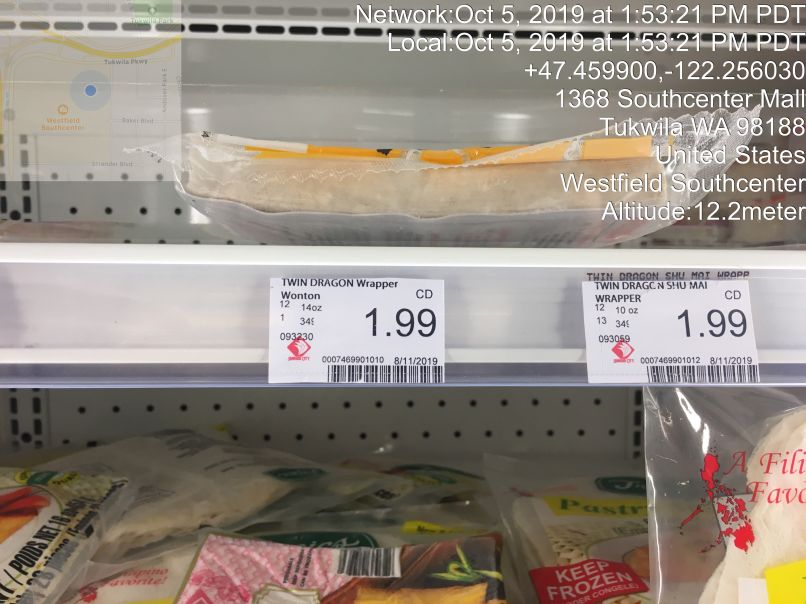Label: (262, 266, 458, 396)
Location: (551, 81, 806, 197)
Time: (347, 3, 806, 54)
Twin Dragon Wrapper: (126, 101, 761, 249)
